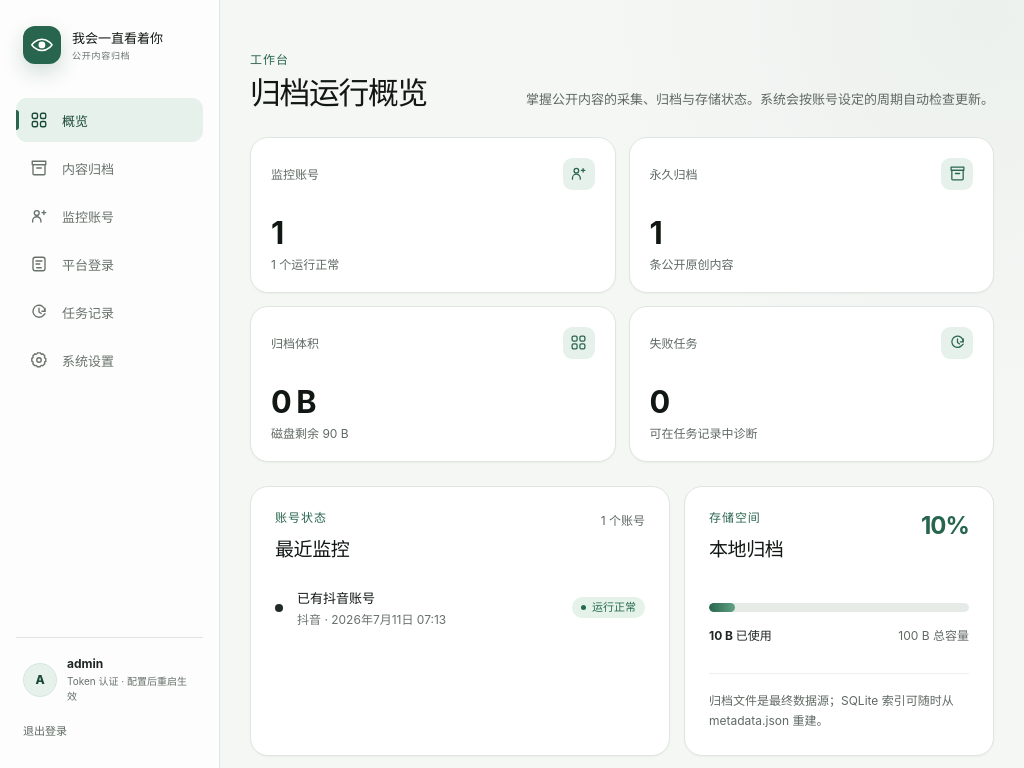
Test case: dashboard account loading › requires explicit delete confirmation and reports a protected archive soft-delete
Expected: the text "已有抖音账号" is shown, [297, 590, 375, 606]
Click the button "监控账号" at (110, 216), box [16, 194, 203, 238]
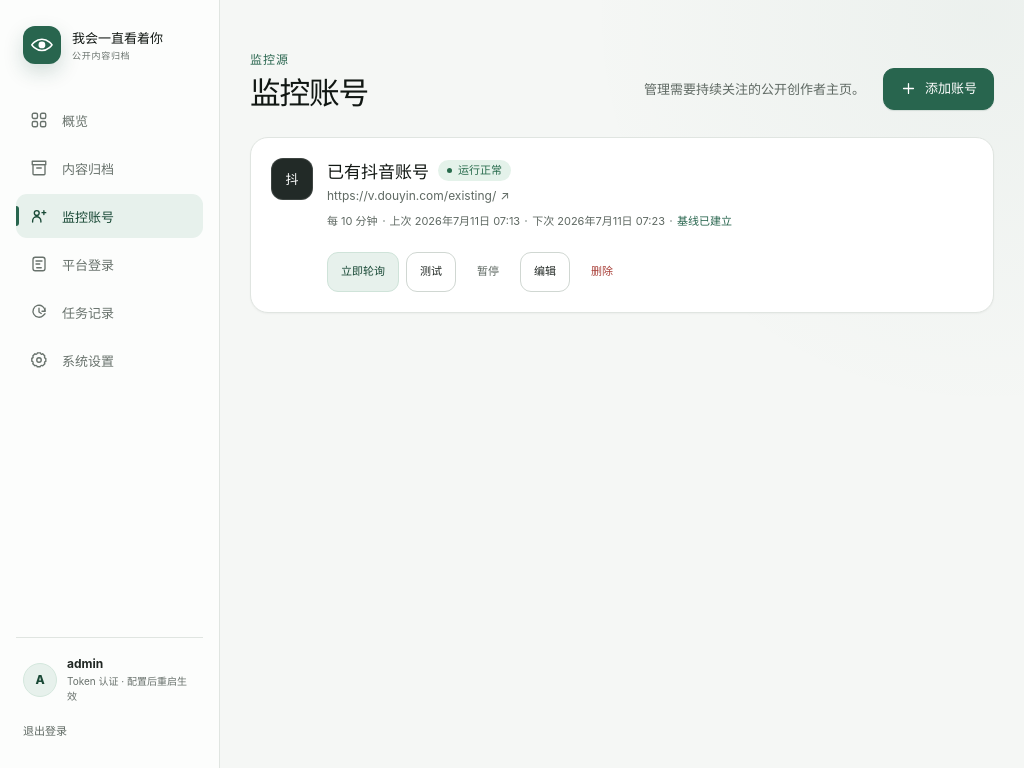
Click the button with aria-label "删除 已有抖音账号" at (602, 272), box [577, 252, 627, 292]
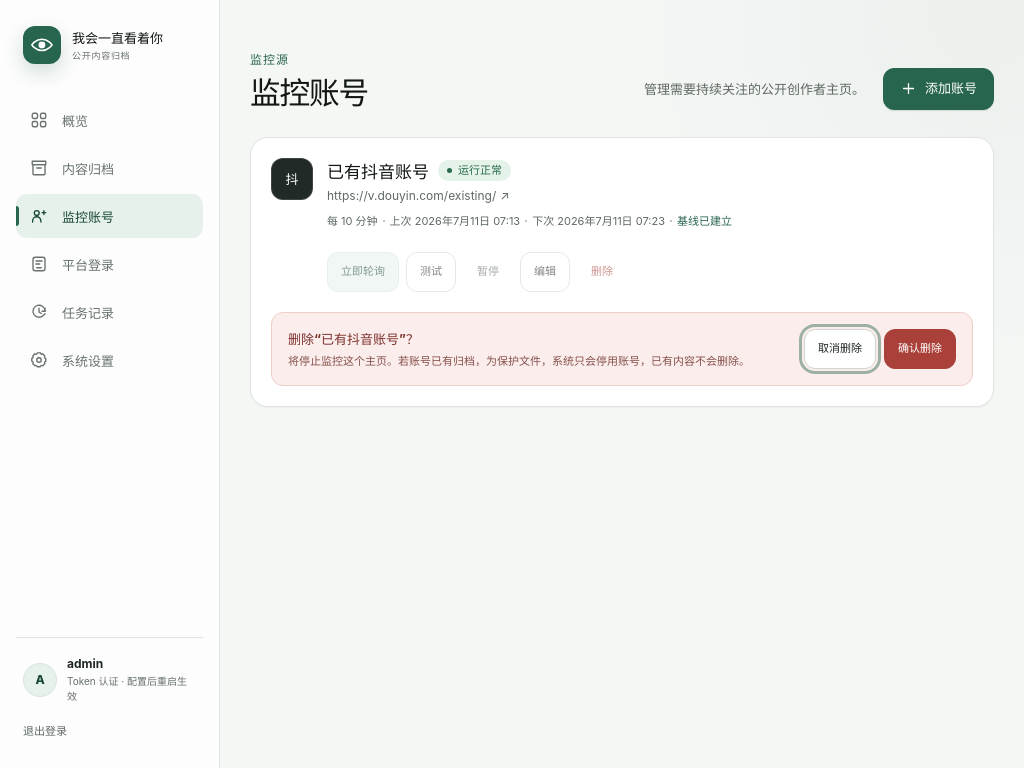
Result: the element "删除“已有抖音账号”？" shows "已有内容不会删除" at [288, 354, 750, 368]
Press Escape in the element "删除“已有抖音账号”？", box [271, 312, 973, 386]
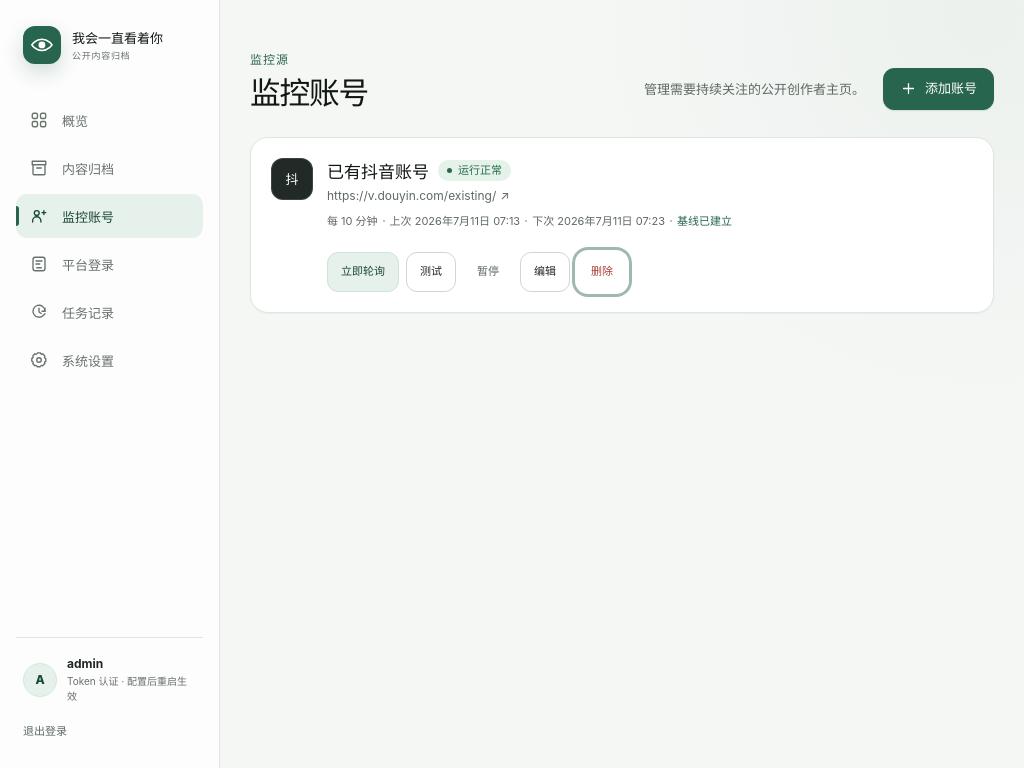
Click the button with aria-label "删除 已有抖音账号" at (602, 272), box [577, 252, 627, 292]
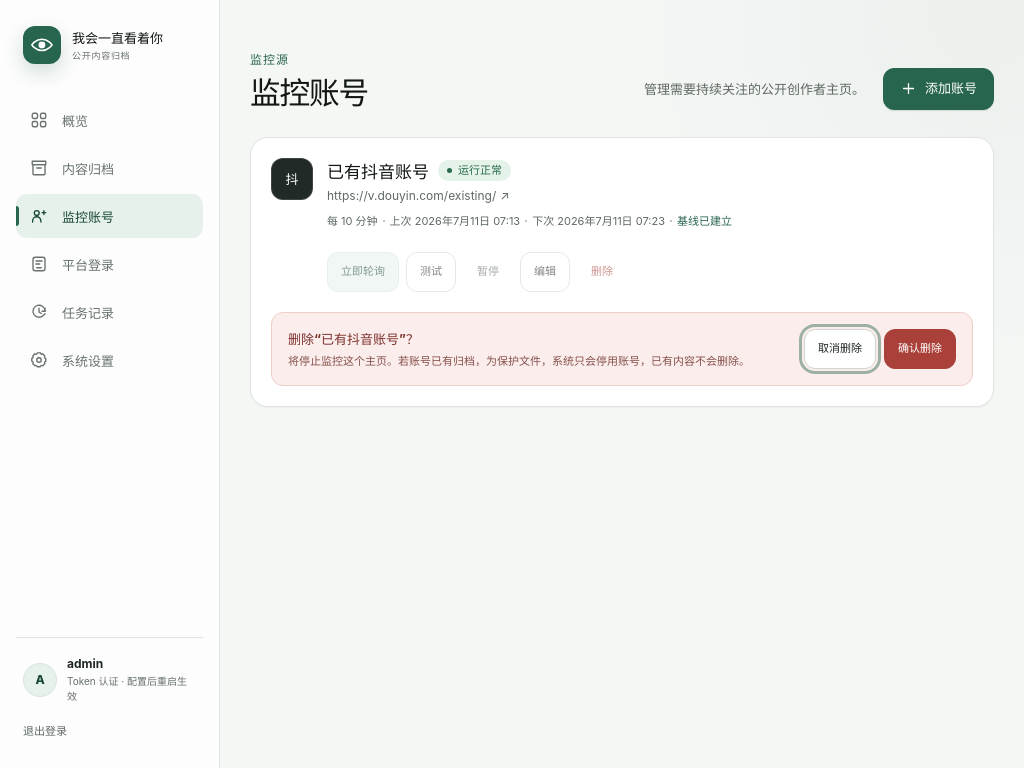
Click the button "确认删除" at (920, 349), box [884, 329, 956, 369]
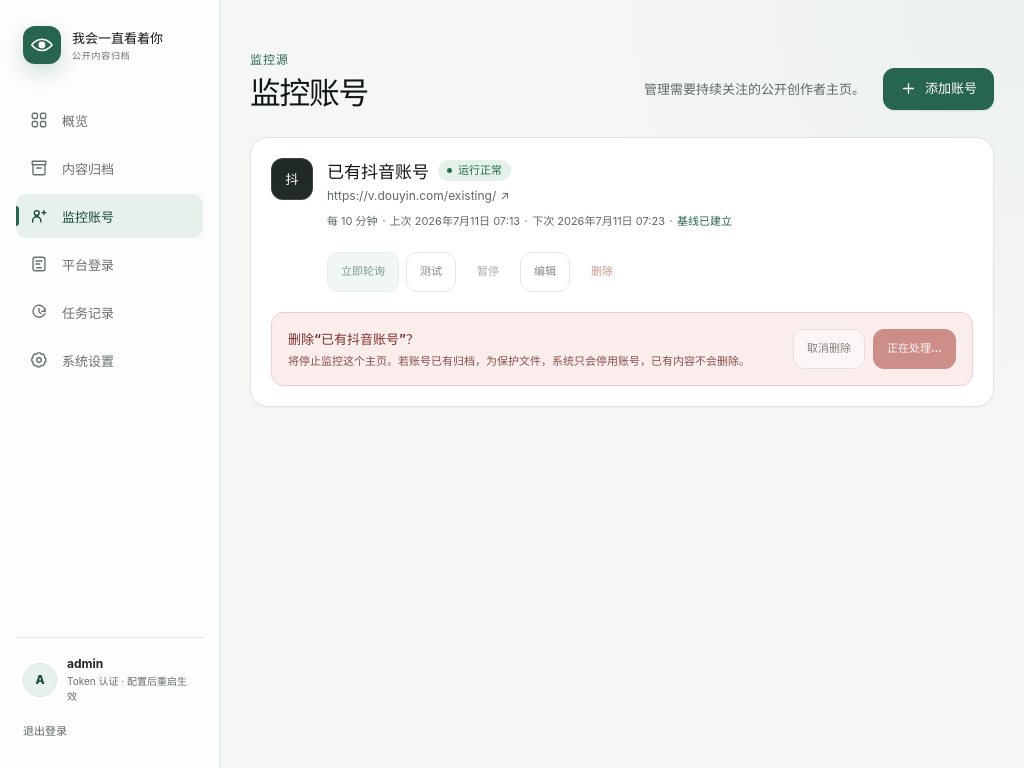
Result: the button "正在处理…" is disabled
Click the button "正在处理…" at (914, 349), box [873, 329, 956, 369]
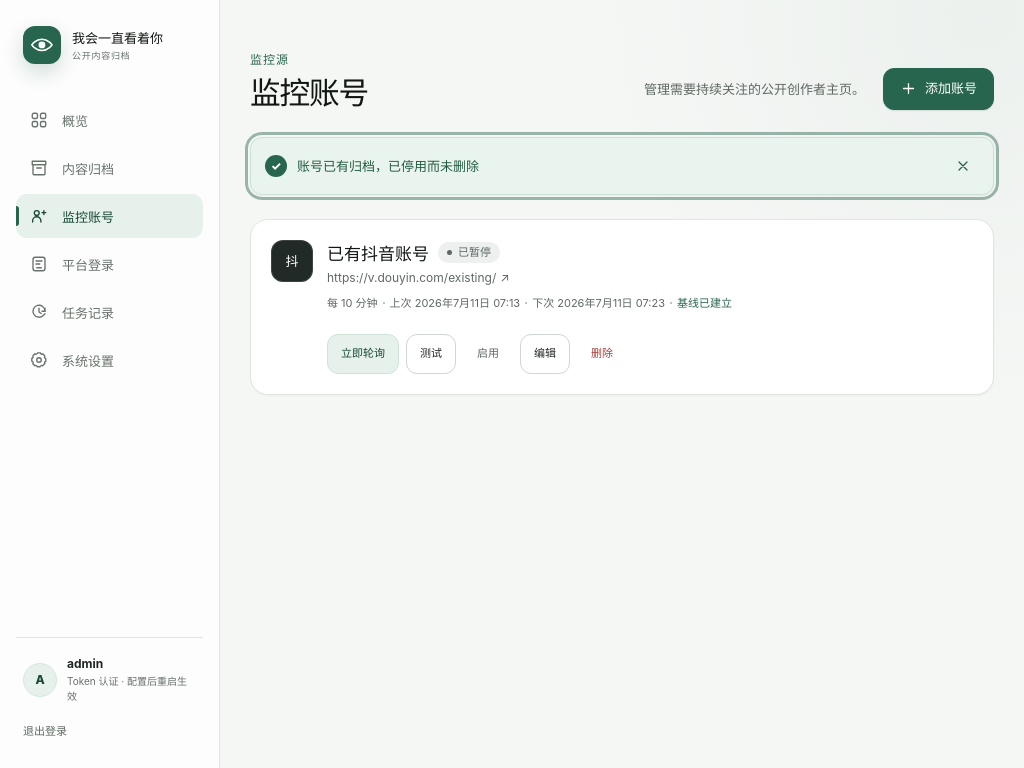
Expected: the heading "已有抖音账号" is shown, [327, 240, 429, 265]
Result: the text "账号已有归档，已停用而未删除" is shown at [297, 158, 479, 174]
Result: the text "已暂停" is shown at [438, 242, 500, 263]
